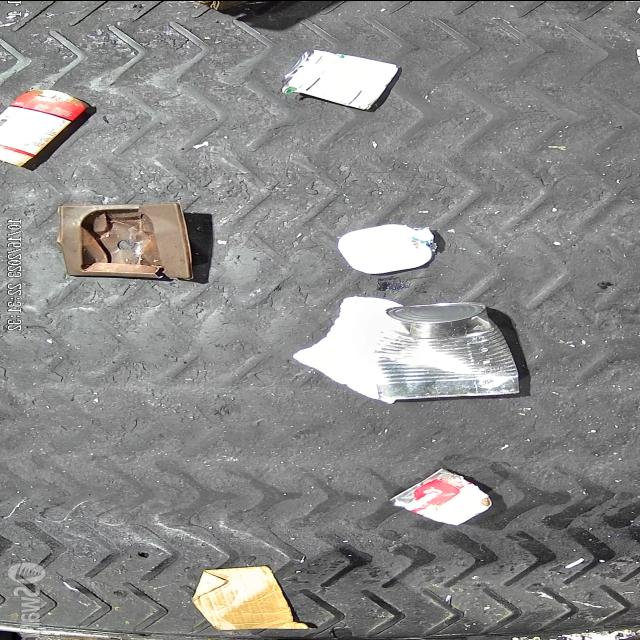can: (374, 301, 520, 399), (278, 48, 401, 112), (389, 468, 493, 526)
